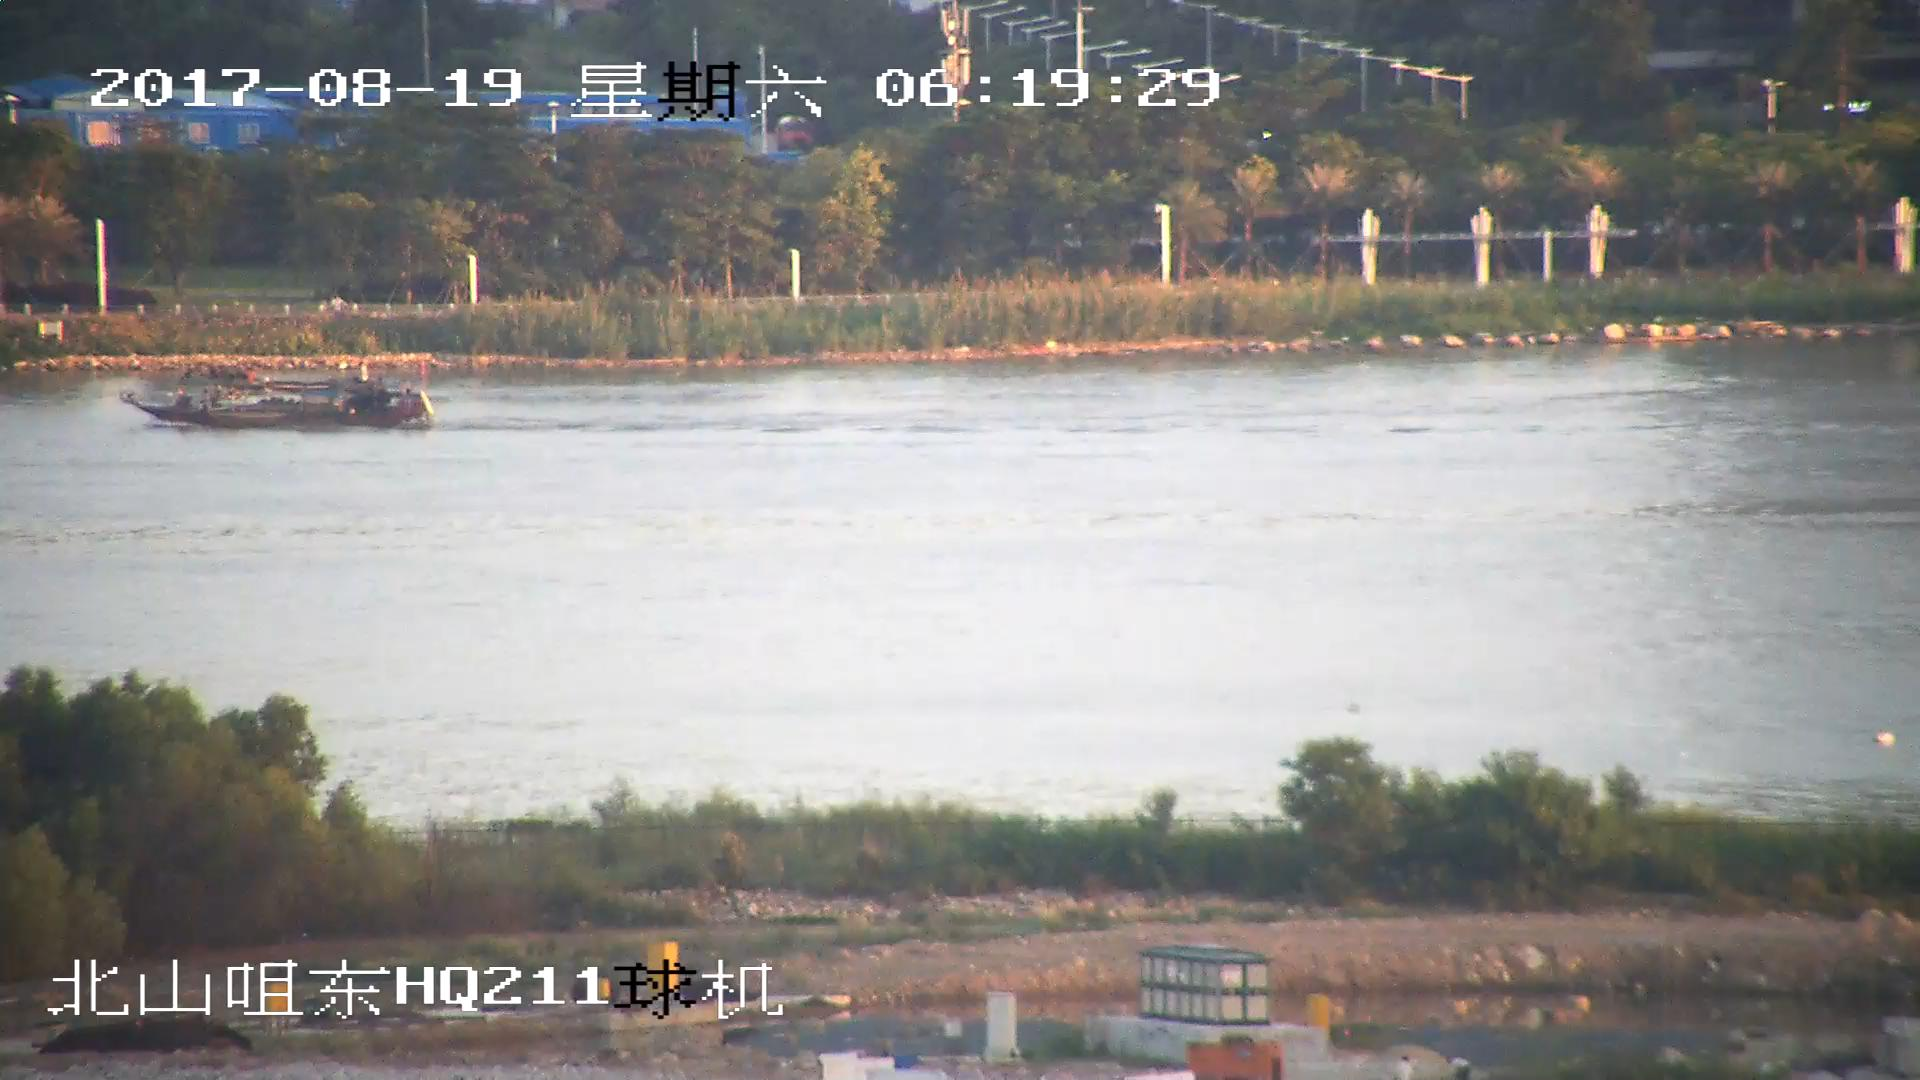fishing boat: (120, 364, 435, 433)
